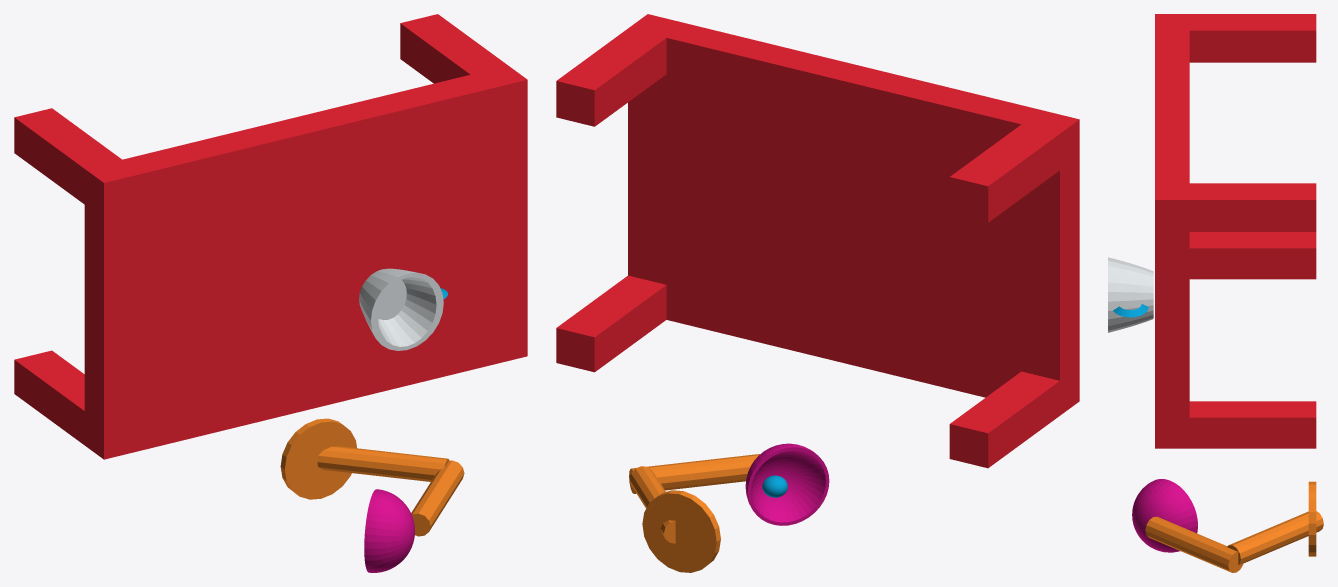
The model's file is tinker.obj.
The picture shows the model from 3 angles, left to right: view 1: azimuth 30°, elevation 25°; view 2: azimuth 150°, elevation 25°; view 3: azimuth 270°, elevation 25°; orthographic projection. The views are drawn at different scales.
Parts seen in each view (by area): view 1: group_0_15277357, group_0_16089887, group_0_14541540, group_0_14093196; view 2: group_0_15277357, group_0_16089887, group_0_14093196; view 3: group_0_15277357, group_0_16089887, group_0_14093196, group_0_14541540, group_0_40919.
Boxes of the visible parts, x1=… form: group_0_15277357: x1=14, y1=14, x2=527, y2=459; group_0_16089887: x1=280, y1=418, x2=464, y2=536; group_0_14541540: x1=359, y1=268, x2=443, y2=350; group_0_14093196: x1=364, y1=489, x2=414, y2=572; group_0_15277357: x1=556, y1=14, x2=1079, y2=468; group_0_16089887: x1=629, y1=454, x2=759, y2=572; group_0_14093196: x1=745, y1=443, x2=829, y2=525; group_0_15277357: x1=1155, y1=14, x2=1316, y2=448; group_0_16089887: x1=1145, y1=481, x2=1323, y2=572; group_0_14093196: x1=1132, y1=479, x2=1197, y2=552; group_0_14541540: x1=1108, y1=257, x2=1153, y2=332; group_0_40919: x1=1113, y1=304, x2=1148, y2=317.
Bounding box in the file's own units: 116 × 120 × 57.
